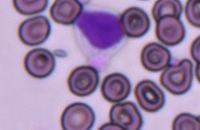L: (73, 8, 126, 54)
